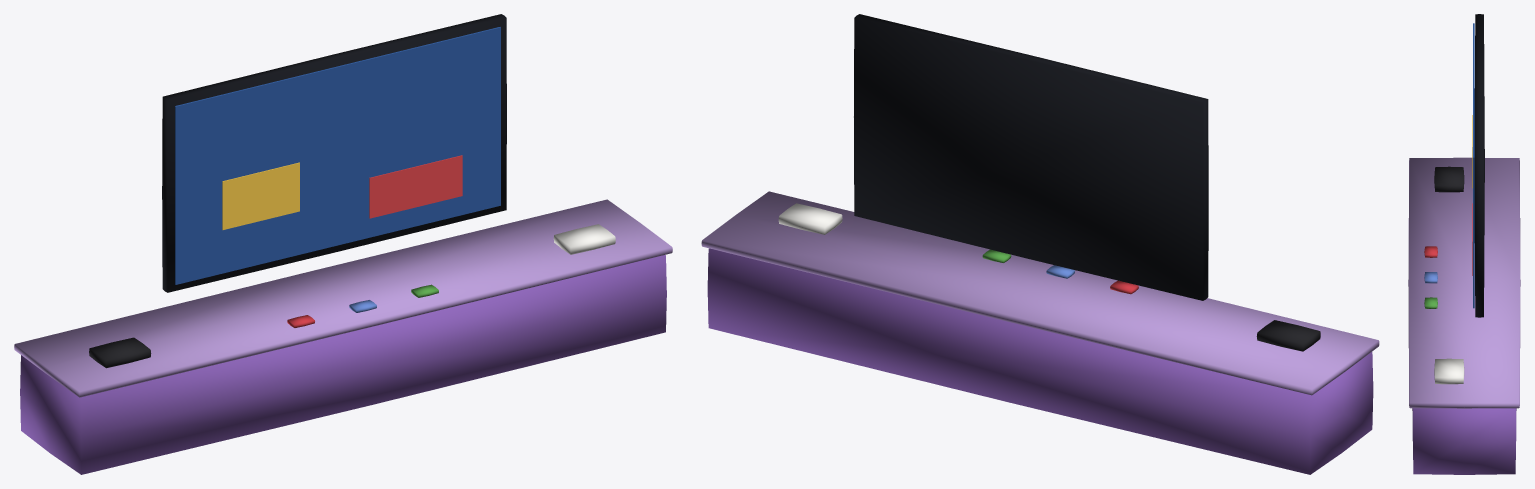
The model's file is game_tv_play.glb.
The picture shows the model from 3 angles, left to right: view 1: azimuth 30°, elevation 25°; view 2: azimuth 150°, elevation 25°; view 3: azimuth 270°, elevation 25°; orthographic projection. The views are drawn at different scales.
Parts seen in each view (by area): view 1: root; view 2: root; view 3: root.
Boxes of the visible parts, x1,y1,x2,y2 form: root: [14, 14, 672, 474]; root: [701, 14, 1379, 474]; root: [1408, 14, 1520, 474].
Size of the model in its own units: 3.84 by 1.98 by 0.74.
